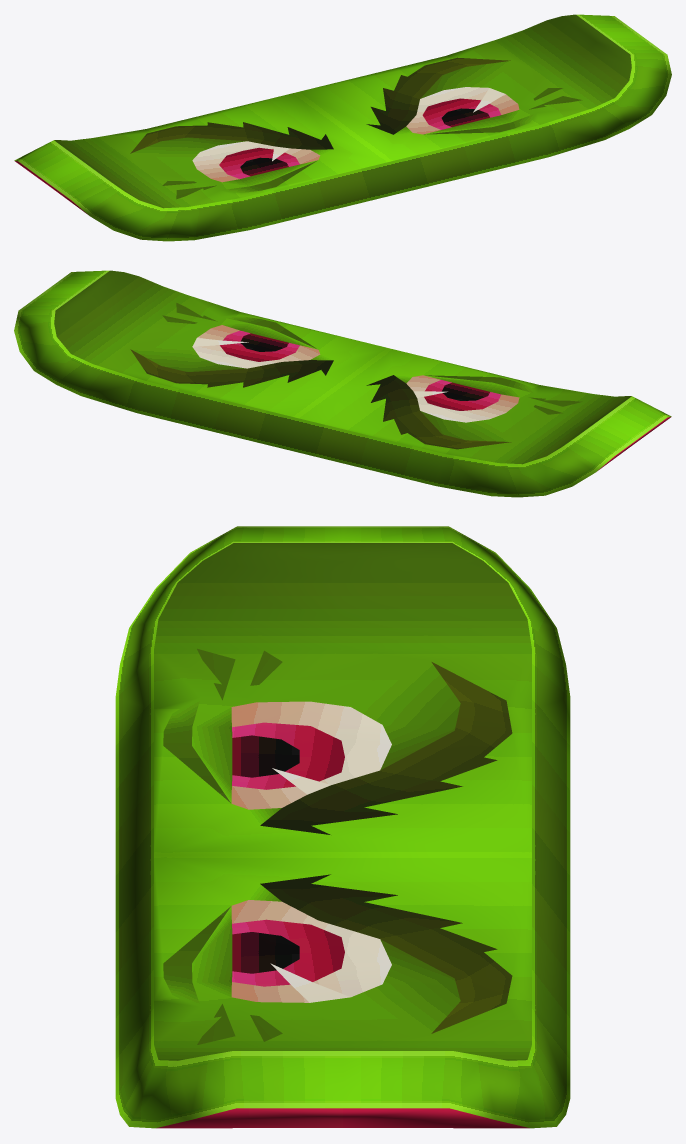
File: Monster.glb
The picture shows the model from 3 angles, top to bottom: view 1: azimuth 30°, elevation 25°; view 2: azimuth 150°, elevation 25°; view 3: azimuth 270°, elevation 25°; orthographic projection. The views are drawn at different scales.
Visible parts, largest first — view 1: Monster; view 2: Monster; view 3: Monster.
Part boxes in pixels (x1,y1,x2,y2): Monster: [14, 14, 671, 241]; Monster: [14, 270, 671, 497]; Monster: [115, 526, 570, 1128].
Size of the model in its own units: 8.35 by 0.7621 by 2.76.
1 material, 1 textured.
